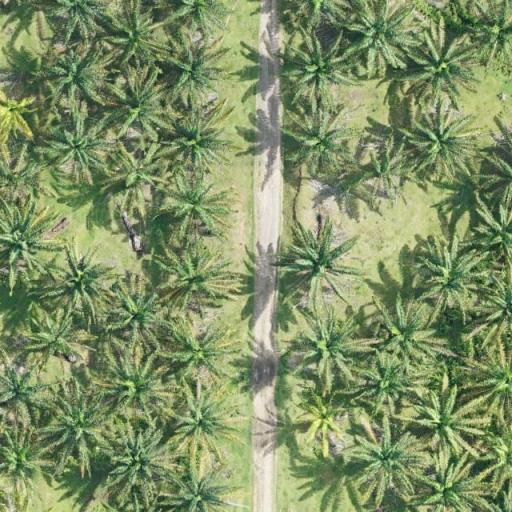Ganoderma: (300, 398, 347, 444), (3, 95, 35, 135)
